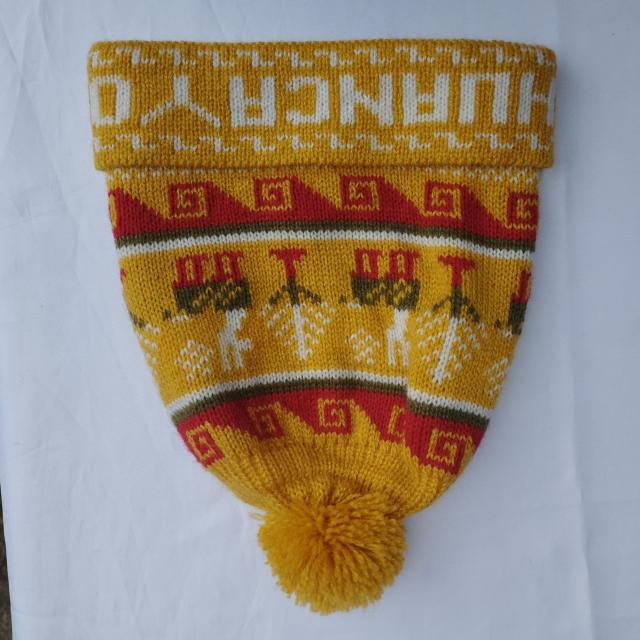Gorro: (86, 37, 558, 615)
